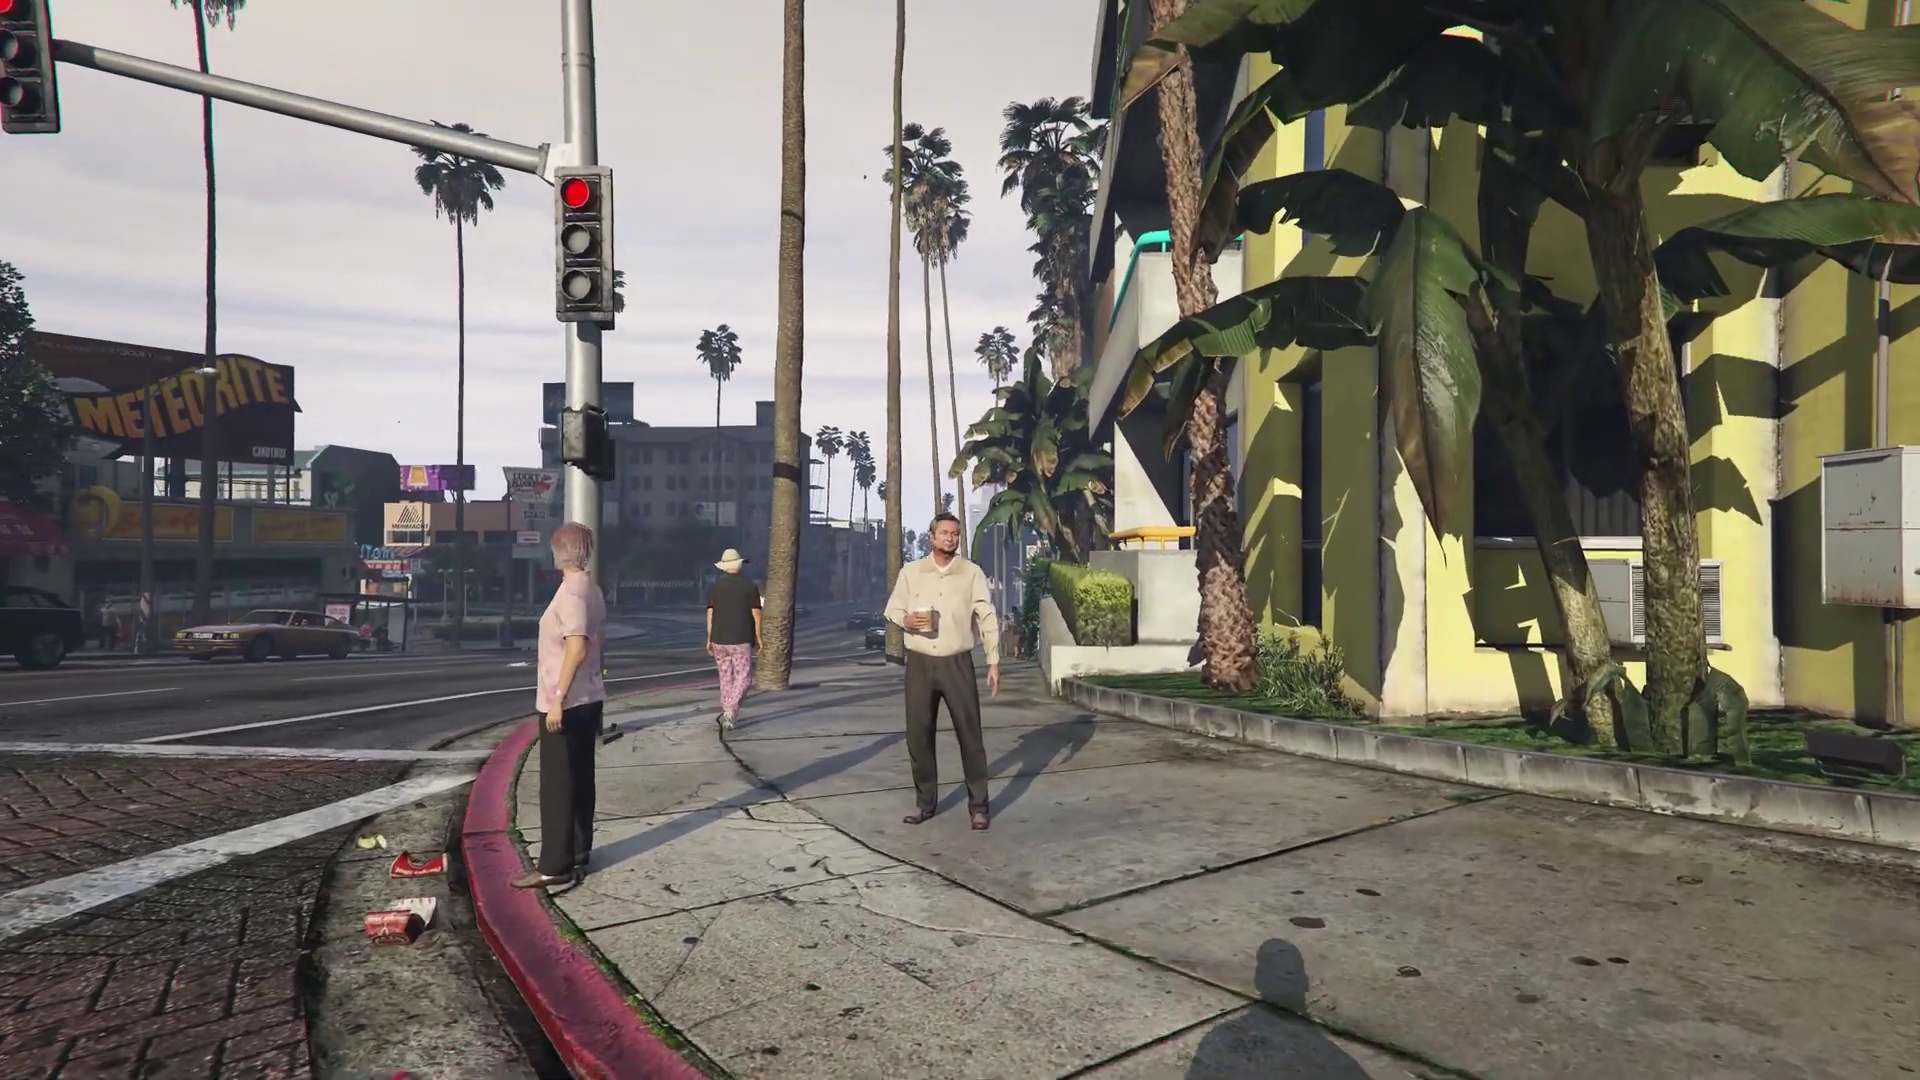car: (174, 607, 361, 656), (9, 588, 80, 665), (867, 625, 888, 647), (847, 611, 875, 627), (792, 604, 808, 619)
person: (881, 512, 1002, 833), (514, 522, 605, 891), (706, 548, 763, 726), (95, 600, 125, 652), (360, 619, 377, 650), (374, 622, 393, 650)
traffic light: (554, 164, 615, 328), (1, 1, 63, 135), (559, 406, 605, 479)
